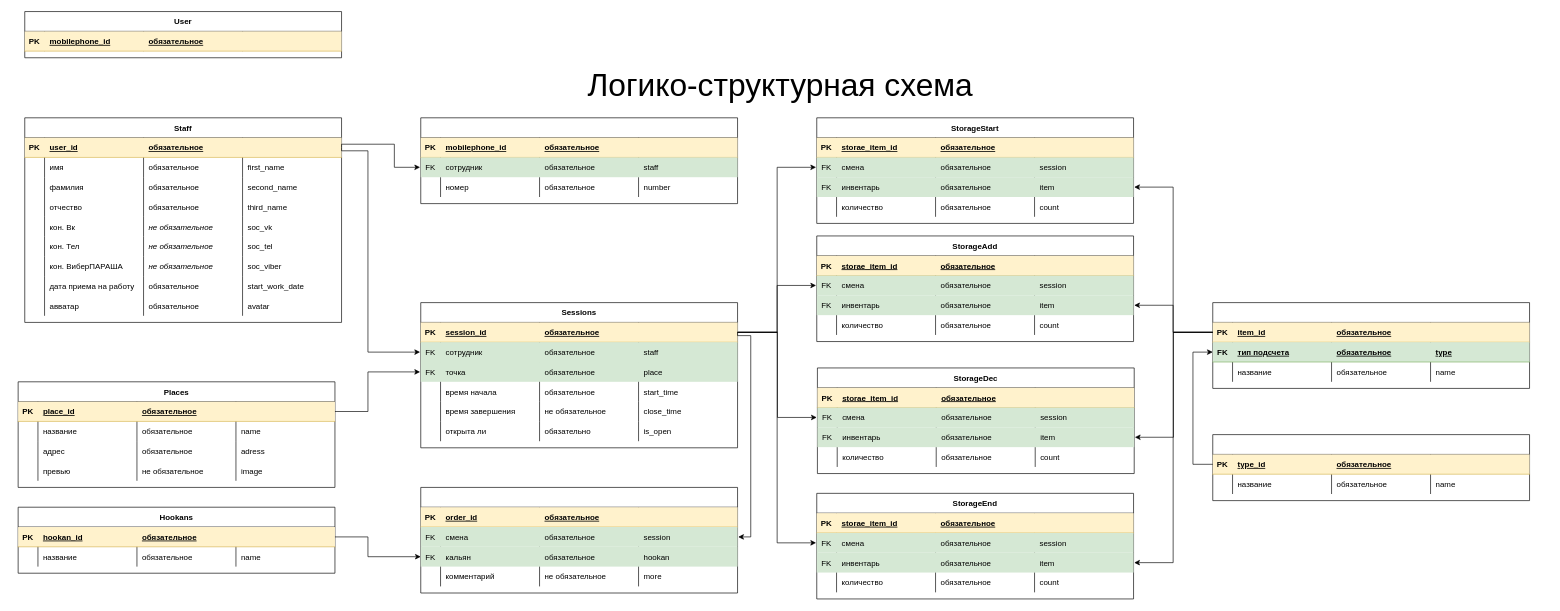
Image size: 1560x611. Some labels were removed from this diagram. Here are the shapes that lost their labels. From the top down, the box of each, then its label:
(420, 117, 738, 204): MobilePhones
(1212, 302, 1530, 388): Items
(1212, 434, 1530, 501): ItemsCountType
(420, 487, 738, 593): Orders
